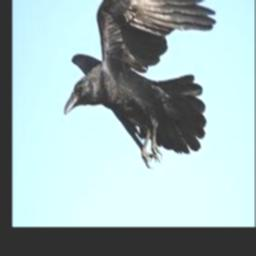Crow: (65, 0, 217, 169)
